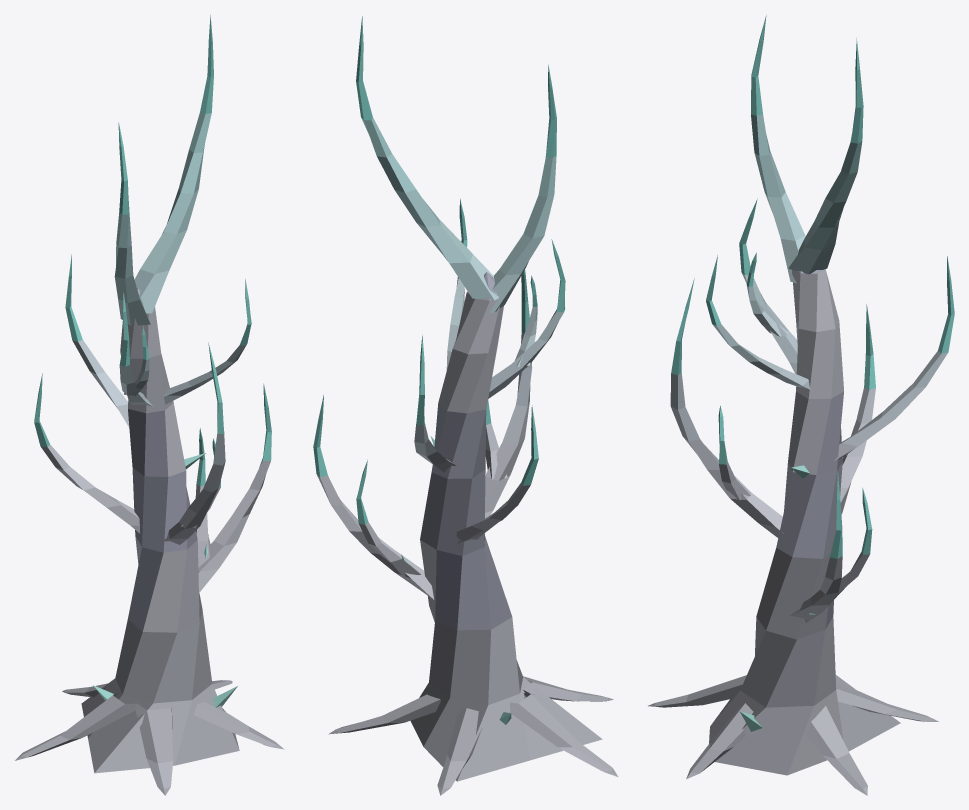
The model's file is Spiritwood_Tree.glb.
3 views of the same model, side by side, from view 1: azimuth 30°, elevation 25°; view 2: azimuth 150°, elevation 25°; view 3: azimuth 270°, elevation 25° (orthographic). The views are drawn at different scales.
Parts seen in each view (by area): view 1: Spiritwood_Tree; view 2: Spiritwood_Tree; view 3: Spiritwood_Tree.
Boxes of the visible parts, x1,y1,x2,y2 form: Spiritwood_Tree: (15, 15, 284, 795); Spiritwood_Tree: (313, 16, 618, 795); Spiritwood_Tree: (648, 15, 954, 795).
Size of the model in its own units: 4.8 by 11.46 by 4.29.
